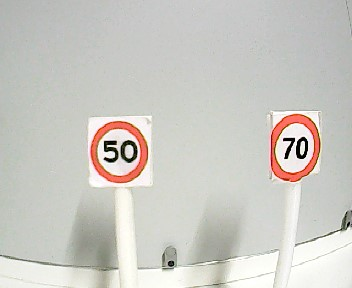50-bord: (91, 121, 150, 185)
70-bord: (269, 114, 320, 182)
